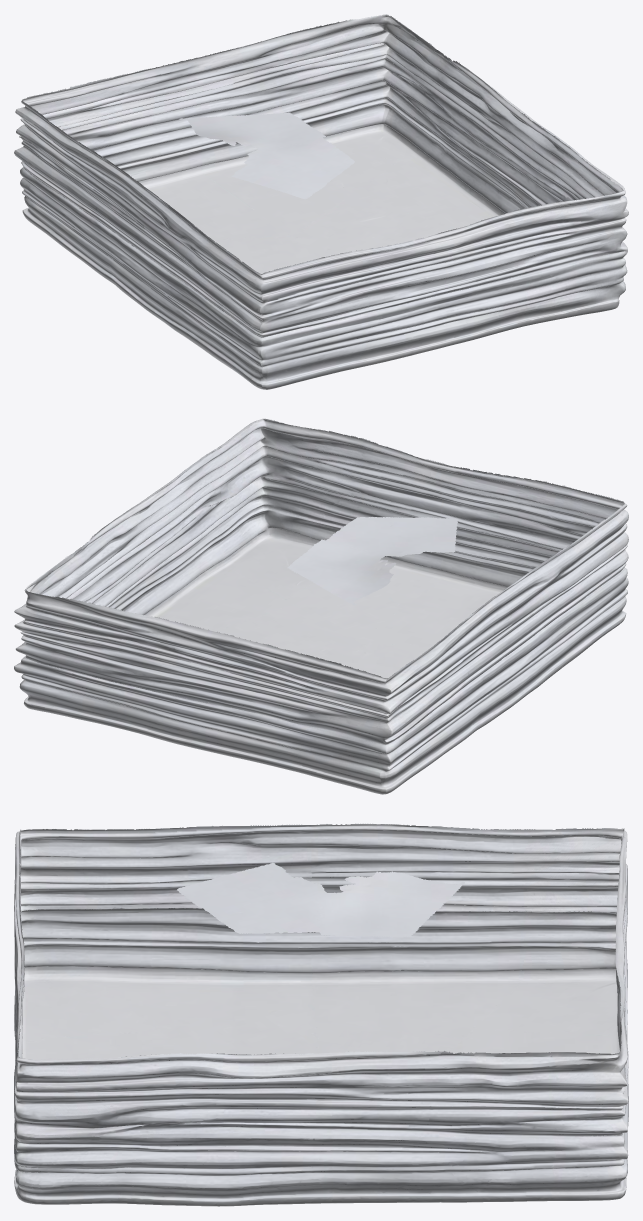
The model's file is wipepaper-parts.glb.
3 views of the same model, one above another, from view 1: azimuth 30°, elevation 25°; view 2: azimuth 150°, elevation 25°; view 3: azimuth 270°, elevation 25° (orthographic). The views are drawn at different scales.
Parts seen in each view (by area): view 1: tripo_part_1, tripo_part_0, tripo_part_4; view 2: tripo_part_1, tripo_part_0, tripo_part_4; view 3: tripo_part_0, tripo_part_1, tripo_part_4.
Part boxes in pixels (left/top/right/bottom): tripo_part_1: left=14, top=14, right=628, bottom=337; tripo_part_0: left=20, top=80, right=627, bottom=389; tripo_part_4: left=179, top=112, right=354, bottom=199; tripo_part_1: left=14, top=418, right=628, bottom=745; tripo_part_0: left=14, top=476, right=628, bottom=794; tripo_part_4: left=287, top=517, right=458, bottom=605; tripo_part_0: left=14, top=907, right=628, bottom=1206; tripo_part_1: left=14, top=823, right=628, bottom=1139; tripo_part_4: left=177, top=862, right=464, bottom=936.
Bounding box in the file's own units: 0.8974 × 0.3008 × 0.9997.
Materials: 4 (4 with a texture image).
